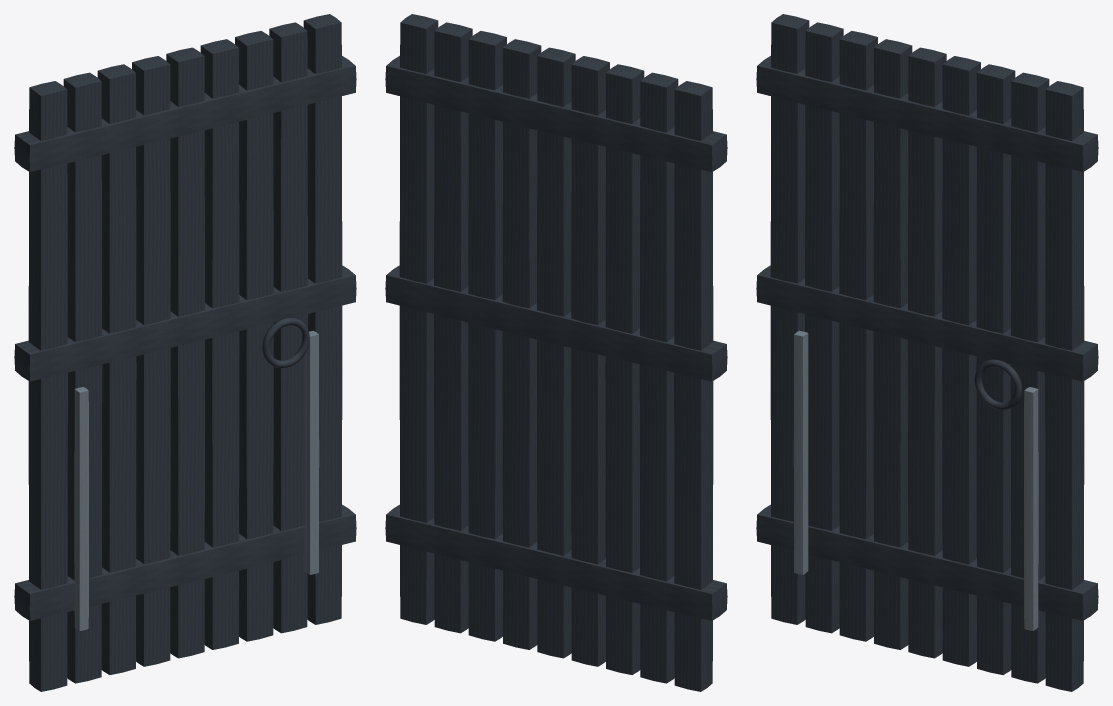
3 renders of one model, left to right at view 1: azimuth 30°, elevation 25°; view 2: azimuth 150°, elevation 25°; view 3: azimuth 330°, elevation 25°, orthographic.
Visible parts, largest first — view 1: iron.0, iron.2, iron.3, iron.4, iron.5, iron.6, iron.7, iron.8, iron.1, iron.11, iron.10, iron.9 (+3 smaller); view 2: iron.0, iron.8, iron.1, iron.7, iron.6, iron.2, iron.3, iron.4, iron.5, iron.11, iron.9, iron.10; view 3: iron.8, iron.2, iron.5, iron.4, iron.3, iron.1, iron.6, iron.0, iron.7, iron.11, iron.10, iron.9 (+3 smaller).
Boxes of the visible parts, bbox=[...] form: iron.0: bbox=[28, 81, 67, 691]; iron.2: bbox=[97, 64, 136, 674]; iron.3: bbox=[132, 56, 170, 666]; iron.4: bbox=[166, 47, 204, 658]; iron.5: bbox=[200, 39, 239, 649]; iron.6: bbox=[235, 31, 273, 641]; iron.7: bbox=[269, 22, 307, 633]; iron.8: bbox=[303, 14, 342, 624]; iron.1: bbox=[63, 72, 102, 683]; iron.11: bbox=[14, 56, 356, 171]; iron.10: bbox=[14, 265, 356, 381]; iron.9: bbox=[14, 504, 356, 620]; iron.0: bbox=[674, 81, 713, 691]; iron.8: bbox=[399, 14, 438, 624]; iron.1: bbox=[639, 72, 678, 683]; iron.7: bbox=[434, 22, 472, 633]; iron.6: bbox=[468, 31, 506, 641]; iron.2: bbox=[605, 64, 644, 674]; iron.3: bbox=[571, 56, 609, 666]; iron.4: bbox=[537, 47, 575, 658]; iron.5: bbox=[502, 39, 541, 649]; iron.11: bbox=[385, 56, 727, 171]; iron.9: bbox=[385, 504, 727, 620]; iron.10: bbox=[385, 265, 727, 381]; iron.8: bbox=[1045, 81, 1084, 691]; iron.2: bbox=[839, 31, 877, 641]; iron.5: bbox=[942, 56, 980, 666]; iron.4: bbox=[908, 47, 946, 658]; iron.3: bbox=[873, 39, 912, 649]; iron.1: bbox=[805, 22, 843, 633]; iron.6: bbox=[976, 64, 1015, 674]; iron.0: bbox=[770, 14, 809, 624]; iron.7: bbox=[1010, 72, 1049, 683]; iron.11: bbox=[756, 56, 1098, 171]; iron.10: bbox=[756, 265, 1098, 381]; iron.9: bbox=[756, 504, 1098, 620].
Size of the model in its own units: 1.15 by 2 by 0.152.
2 materials, 2 textured.
